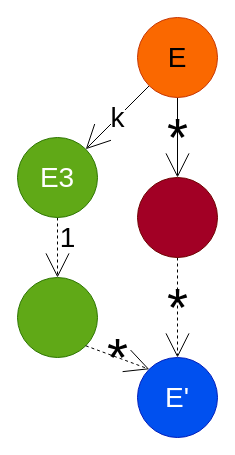
This 235x455 diagram has some shape labels left out. The centre of each missing label's shape, as x and y in pixels:
"E''=E1" goes at (57,317).
"E2" goes at (177,217).
